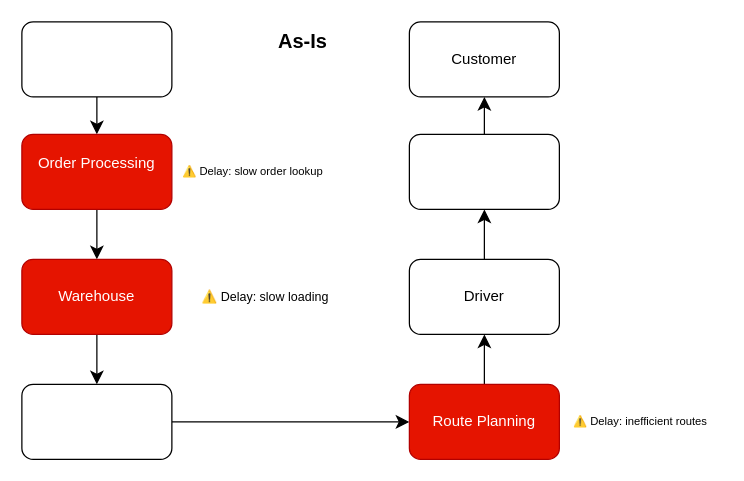
This 744x481 diagram has some shape labels left out. Here are the shapes that lost their labels. From the top down, the centre of each, then its label:
At [96,59]: "Customer Order".
At [483,171]: "Delivery".
At [96,421]: "Vehicle Assignment".
